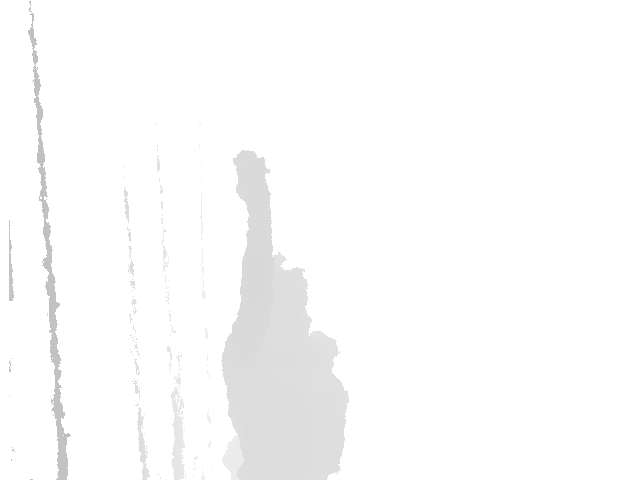hand: (231, 145, 273, 208)
head: (272, 257, 306, 325)
person: (224, 147, 348, 480)
